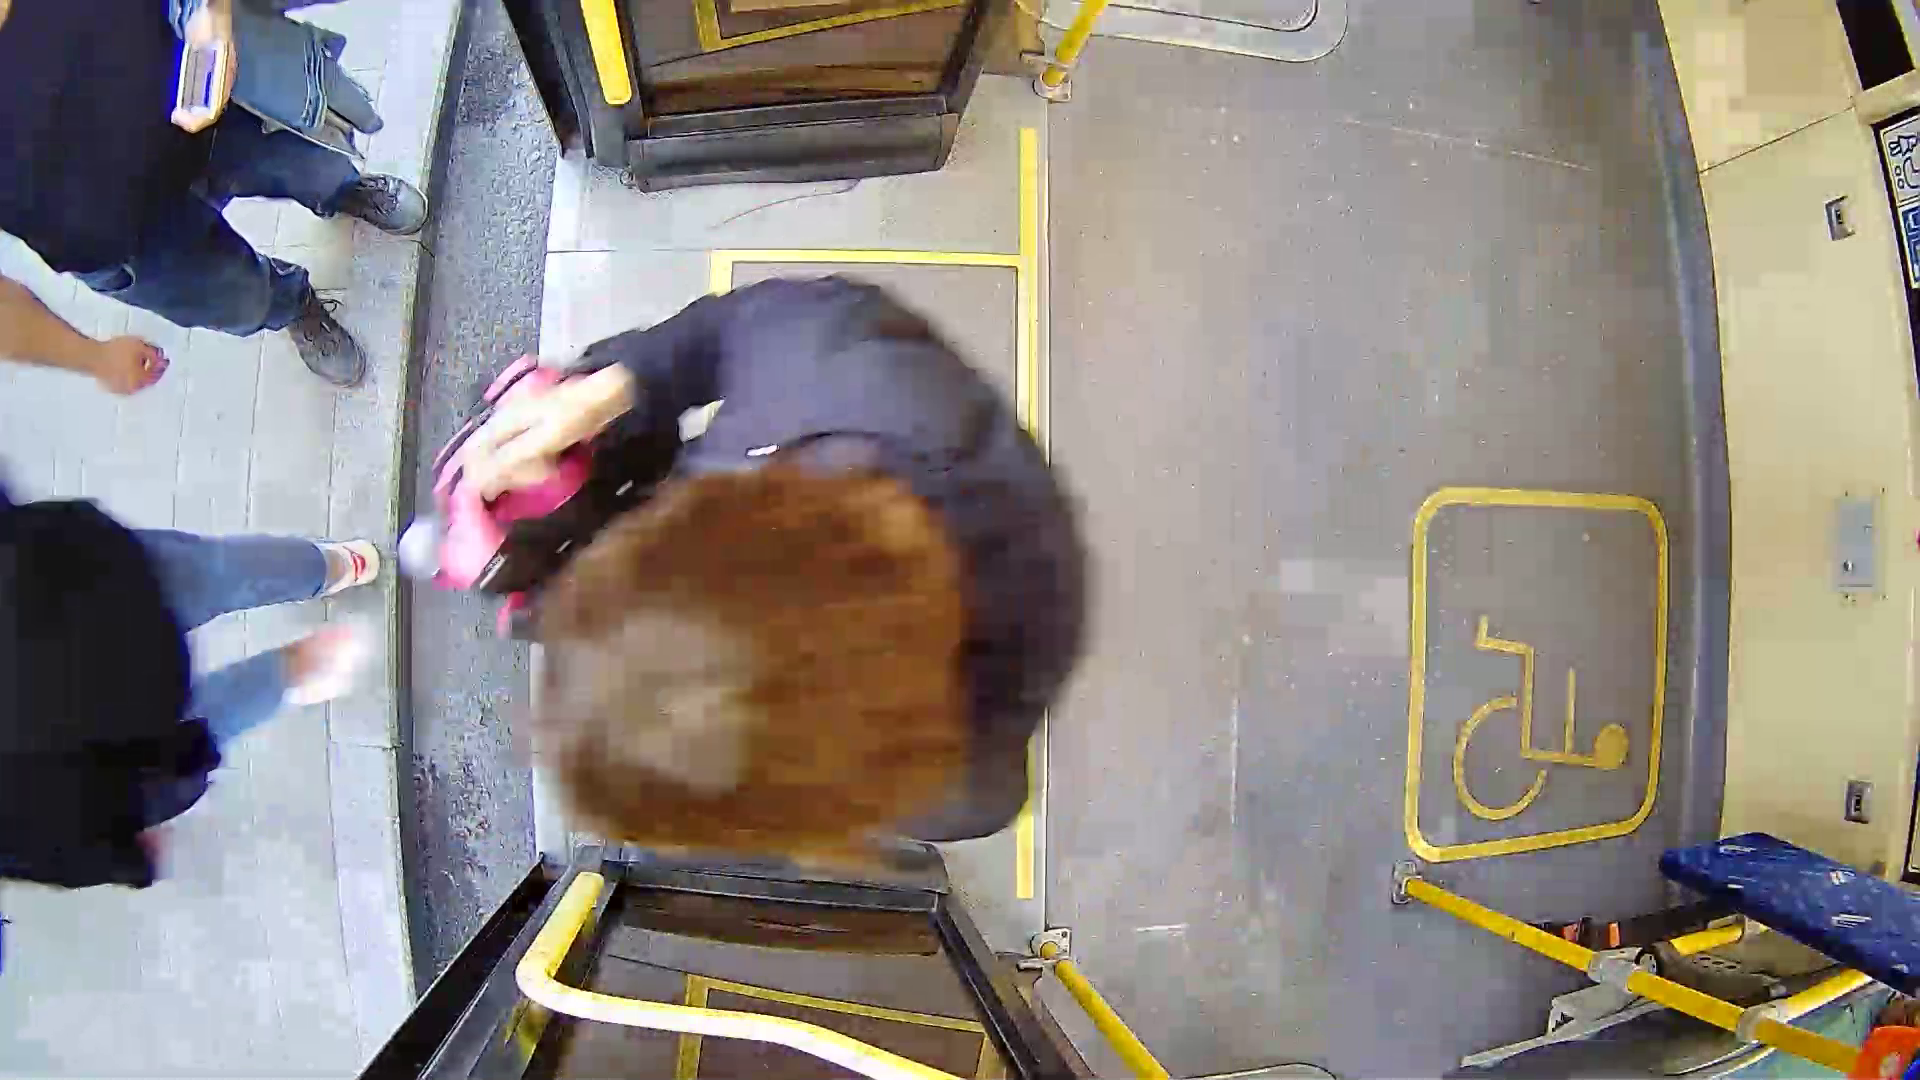person: (427, 297, 1150, 897)
